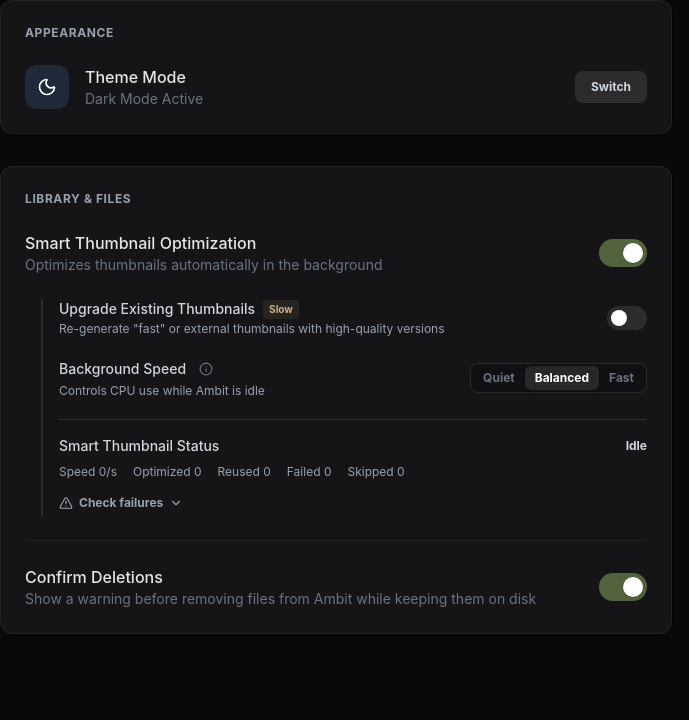
Test case: GeneralTab Smart Thumbnail details › can check persisted failures even when the current store has no failure count
Click the button "Check failures": (121, 503) [59,495,183,511]
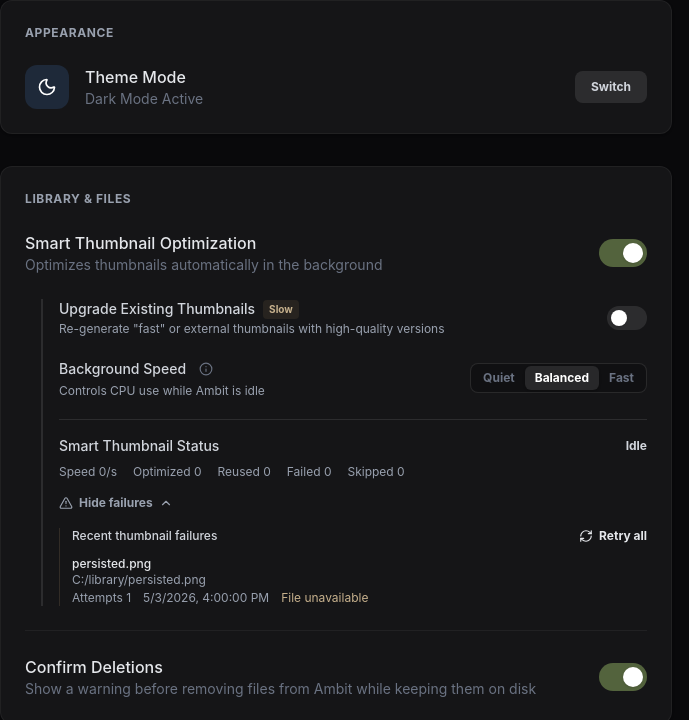
Result: the text "persisted.png" is shown at [72,556,151,571]
Result: the text "File unavailable" is shown at [281,590,368,606]
